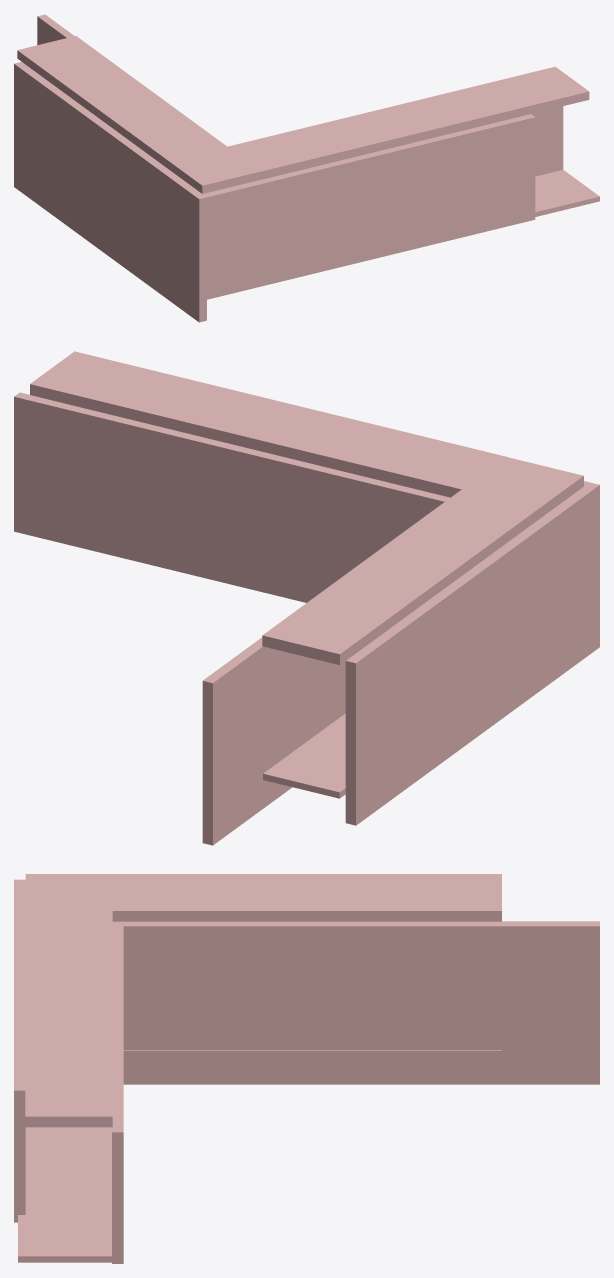
The model's file is poster_corridor.fbx.
3 renders of one model, top to bottom at view 1: azimuth 30°, elevation 25°; view 2: azimuth 150°, elevation 25°; view 3: azimuth 270°, elevation 25°, orthographic. The views are drawn at different scales.
Parts seen in each view (by area): view 1: Cylinder.021, Cylinder.028, ceiling.002, ceiling.019, ground.012; view 2: Cylinder.028, Cylinder.021, ceiling.002, ceiling.019, ground.015; view 3: Cylinder.028, ceiling.019, ceiling.002, ground.012, Cylinder.021, ground.015.
Boxes of the visible parts, bbox=[...] form: Cylinder.021: bbox=[195, 106, 563, 299]; Cylinder.028: bbox=[14, 14, 206, 322]; ceiling.002: bbox=[228, 66, 589, 179]; ceiling.019: bbox=[17, 36, 261, 193]; ground.012: bbox=[535, 170, 599, 216]; Cylinder.028: bbox=[202, 485, 599, 845]; Cylinder.021: bbox=[14, 392, 599, 602]; ceiling.002: bbox=[30, 351, 506, 497]; ceiling.019: bbox=[262, 457, 583, 664]; ground.015: bbox=[263, 713, 345, 798]; Cylinder.028: bbox=[112, 921, 599, 1084]; ceiling.019: bbox=[25, 874, 501, 921]; ceiling.002: bbox=[25, 911, 112, 1127]; ground.012: bbox=[18, 1127, 111, 1262]; Cylinder.021: bbox=[14, 879, 123, 1263]; ground.015: bbox=[123, 1050, 501, 1056].
Size of the model in its own units: 1793 by 560 by 1759.
